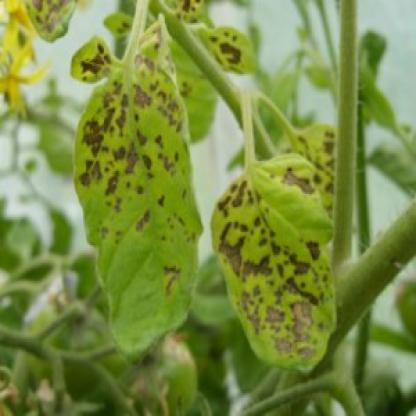tomato leaf bacterial spot: (37, 36, 209, 372), (202, 155, 338, 388)
